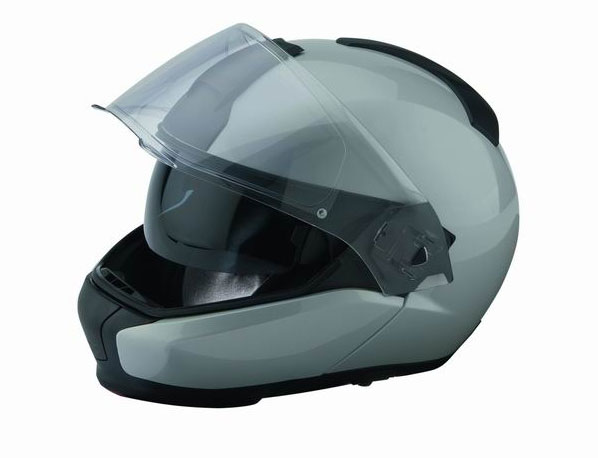helmet: (104, 19, 509, 389)
